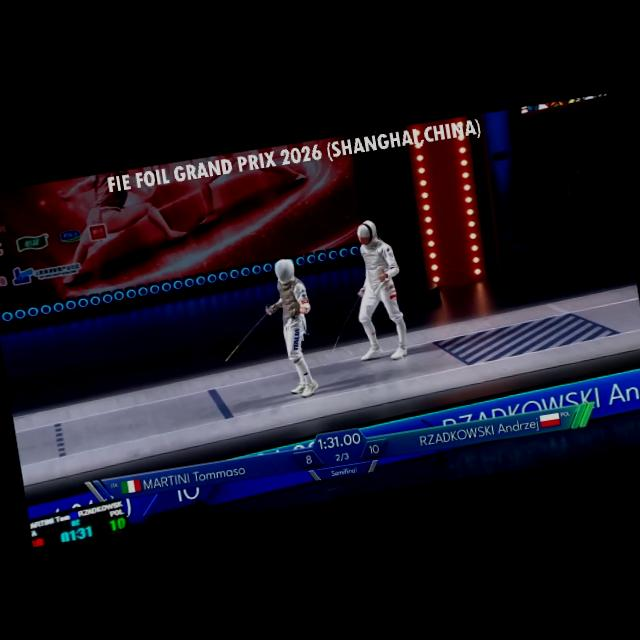blade: (214, 306, 282, 364), (321, 286, 376, 356)
